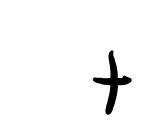plus: (93, 50, 132, 115)
